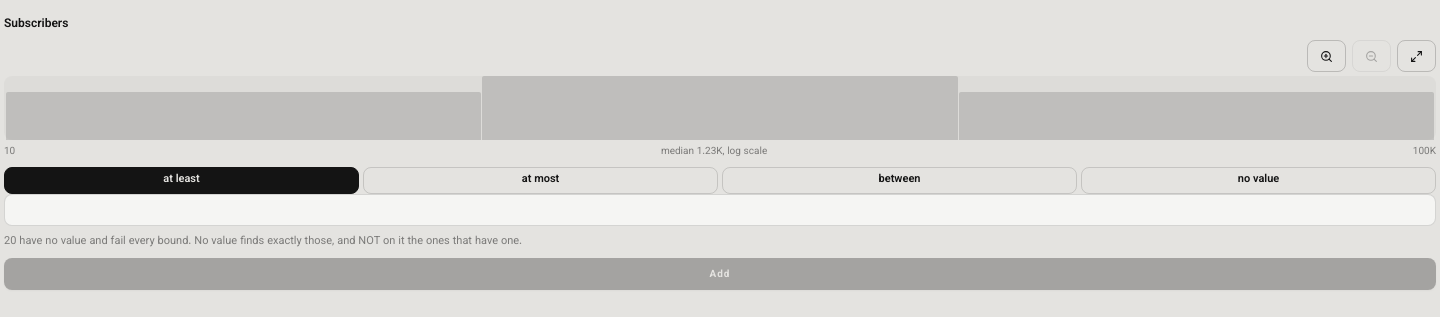
a read source › Zoom in asks for a third in log(1 + x), around the median
This screenshot has width=1440, height=317.
Click the button named "Zoom in" at x=1326, y=56, box 1307,40 -> 1346,72
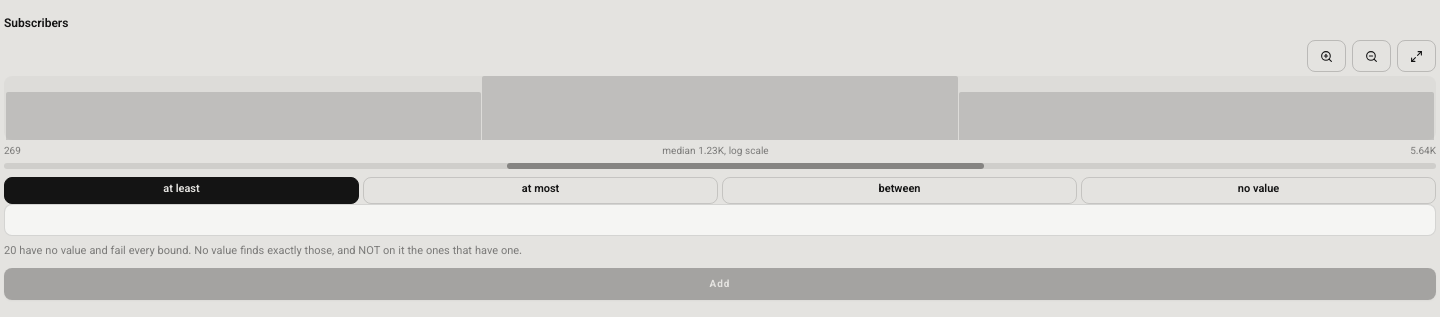
Result: the element with test id "spread-caption" reads "269 median 1.23K, log scale 5.64K" at 4,144 -> 1436,159
